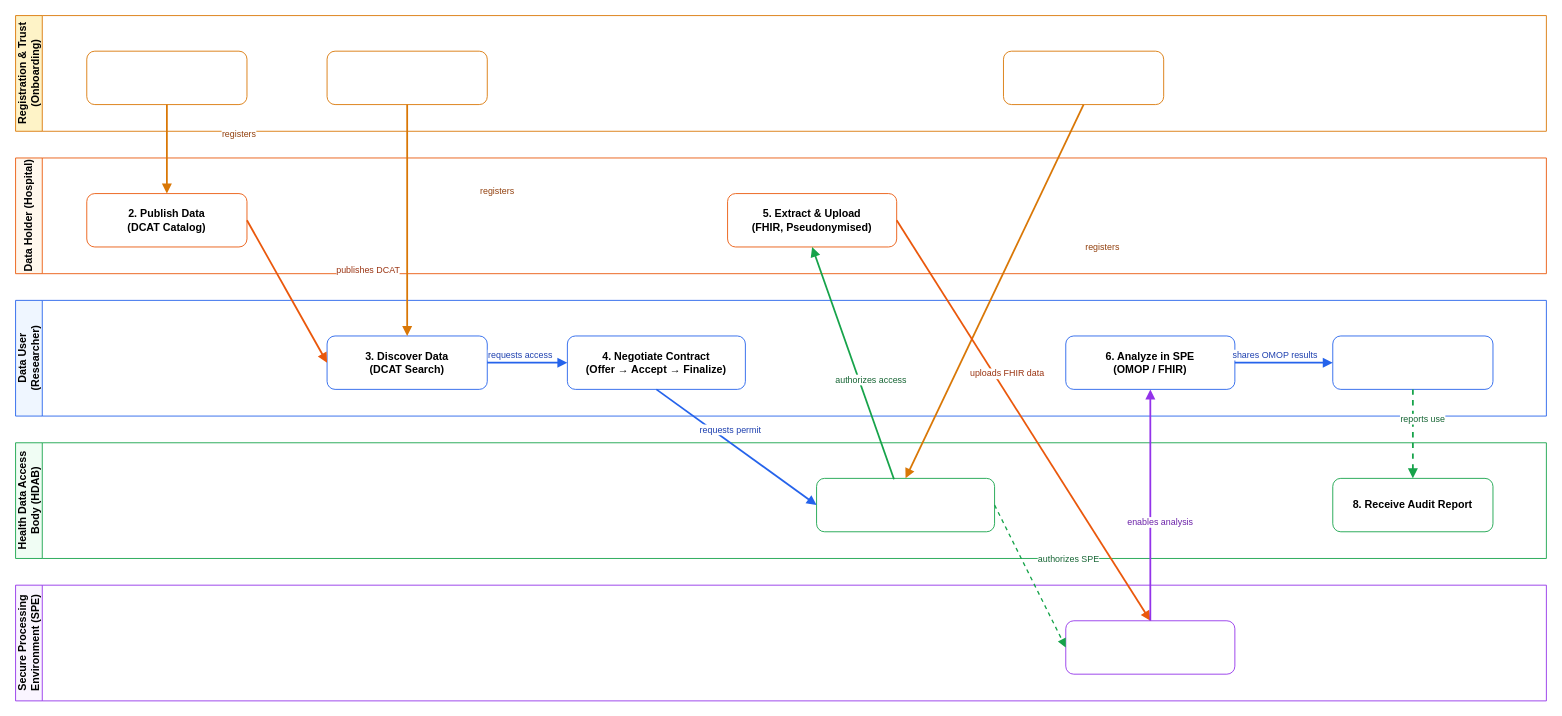
This 1562x716 diagram has some shape labels left out. The centre of each missing label's shape, as x and y in pixels:
"1a. Hospital Registers" goes at pixel 166 77.
"1b. Researcher Registers" goes at pixel 406 77.
"1c. HDAB Registers" goes at pixel 1083 77.
"4b. Approve Data Permit" goes at pixel 905 504.
"7. Share Results (OMOP Output)" goes at pixel 1412 362.
"Provision SPE & Ingest Data" goes at pixel 1150 647.
